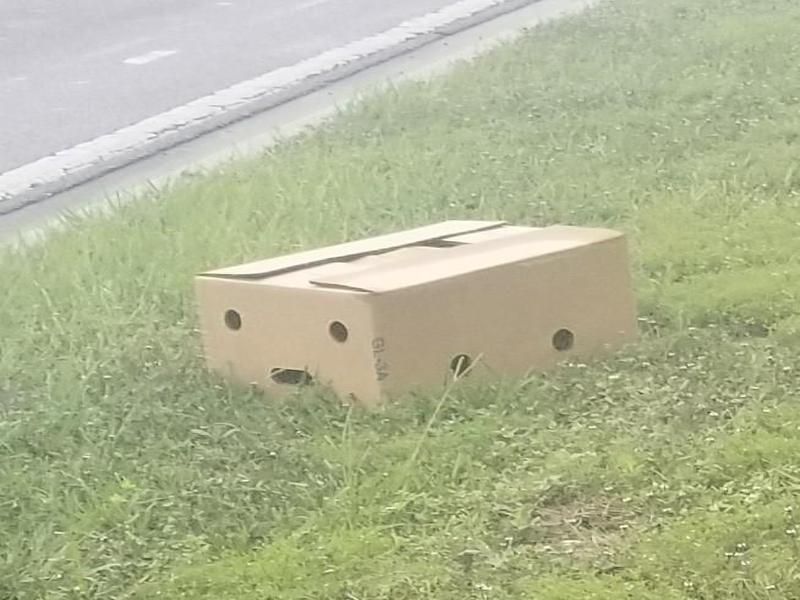cardboard: (188, 209, 636, 422)
